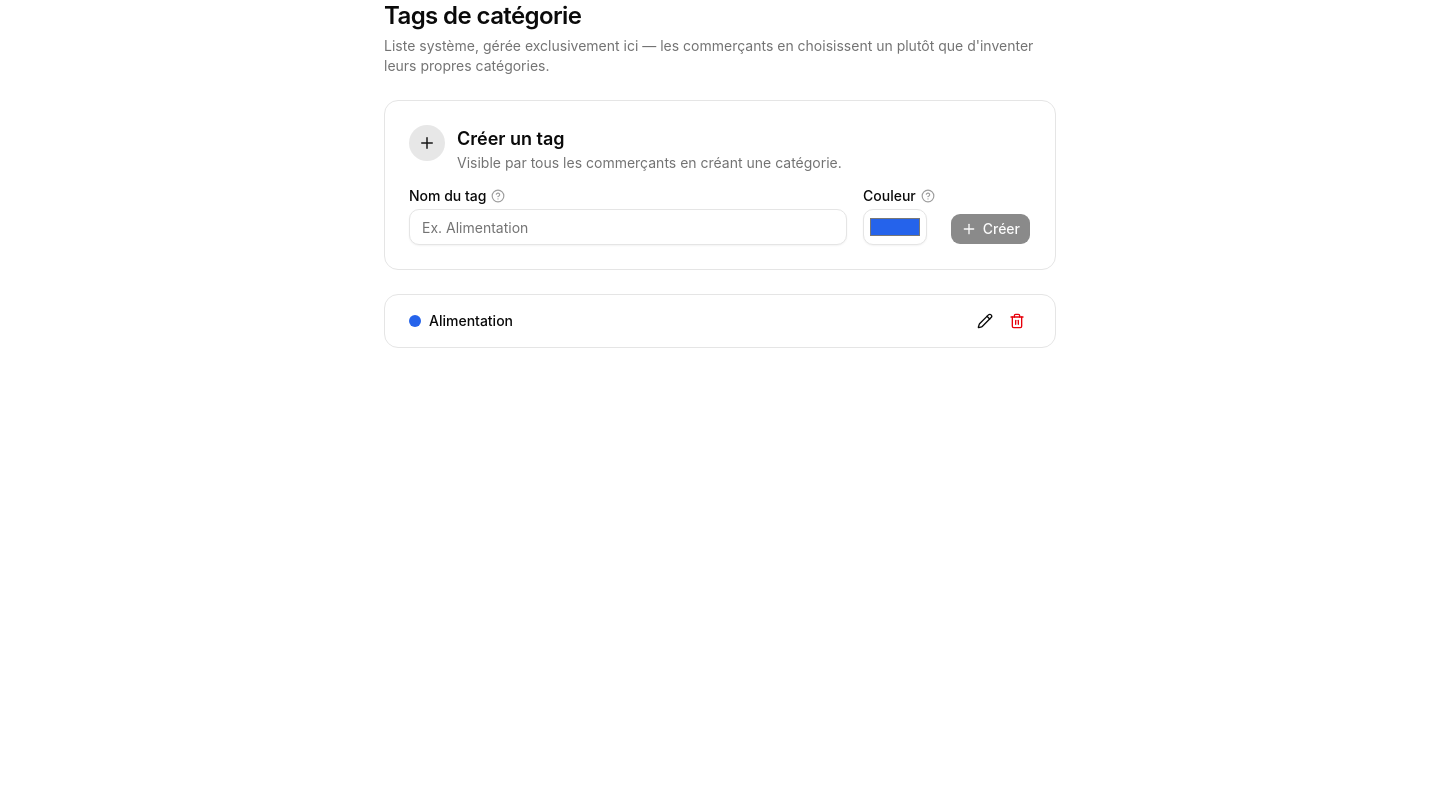
Scenario: CategoryTagsPageContent › modifier un tag (double-clic ou icône) › opens the edit dialog via the edit icon, pre-filled, and saves changes
Click the button named "Modifier Alimentation".
click(985, 321)  # box [971, 307, 999, 335]
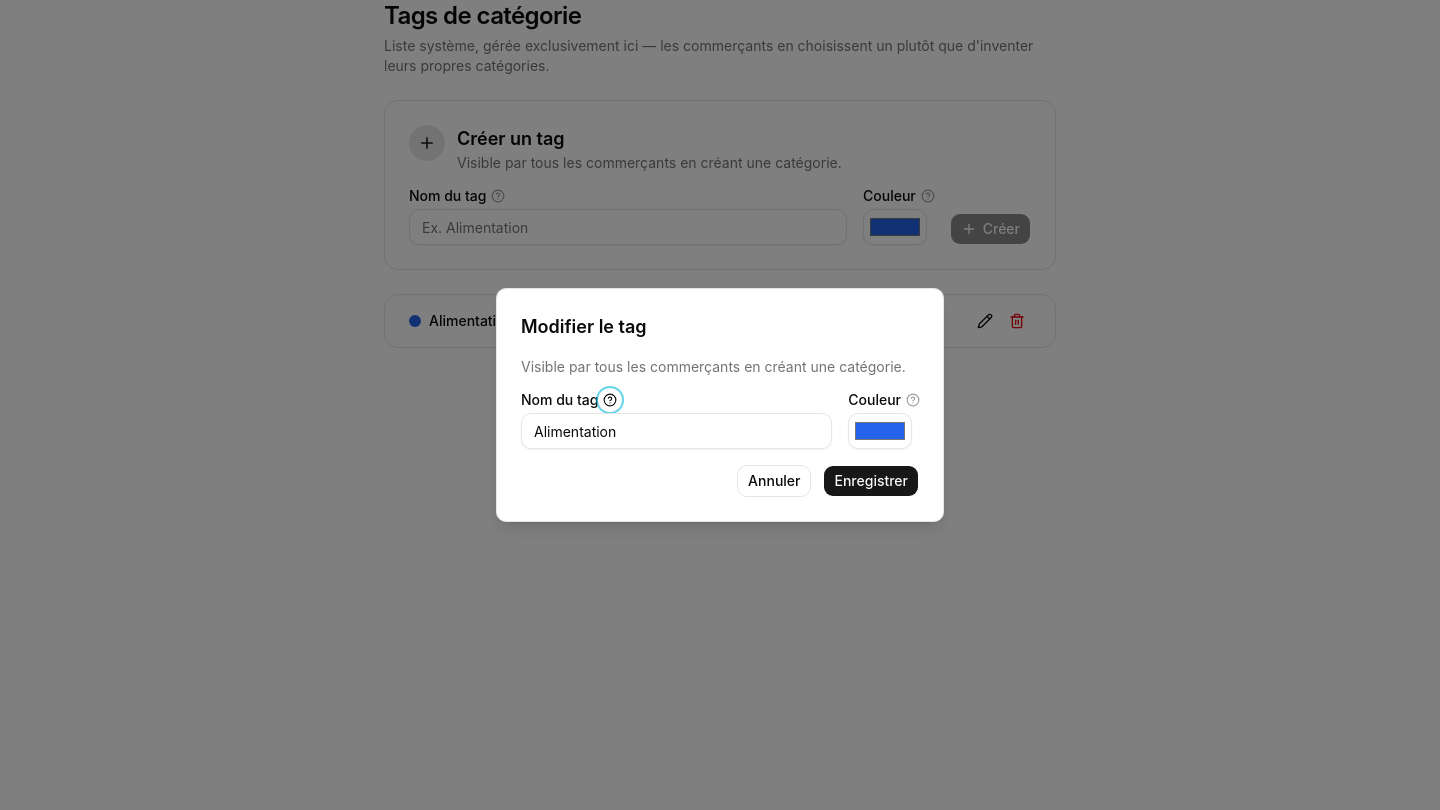
expect the field labelled "Nom du tag" holds "Alimentation": met
Replace the text in the field labelled "Nom du tag" with "Alimentation & Boissons" at (677, 431), box [521, 413, 832, 449]
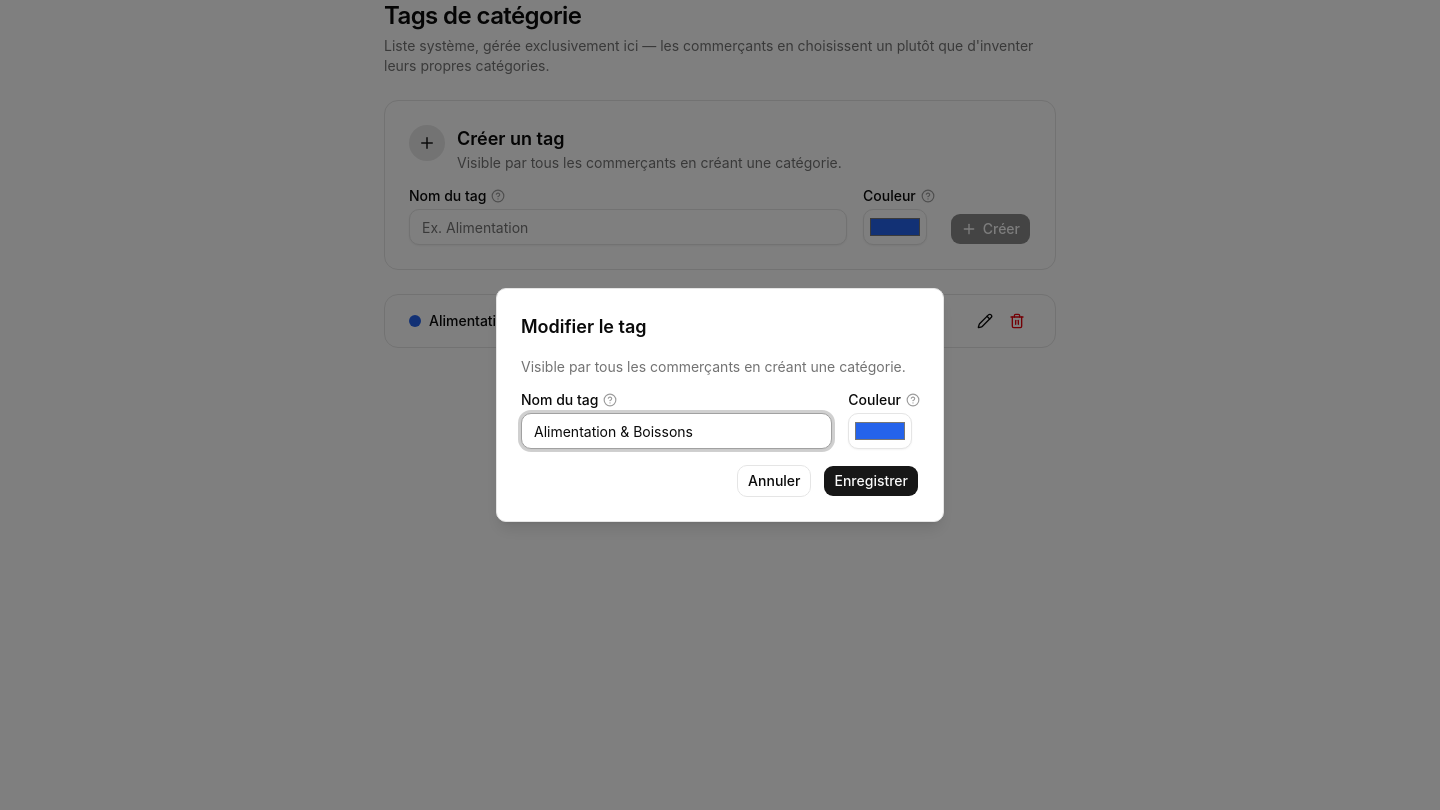
Click the button "Enregistrer".
click(871, 481)  # box [824, 465, 919, 497]
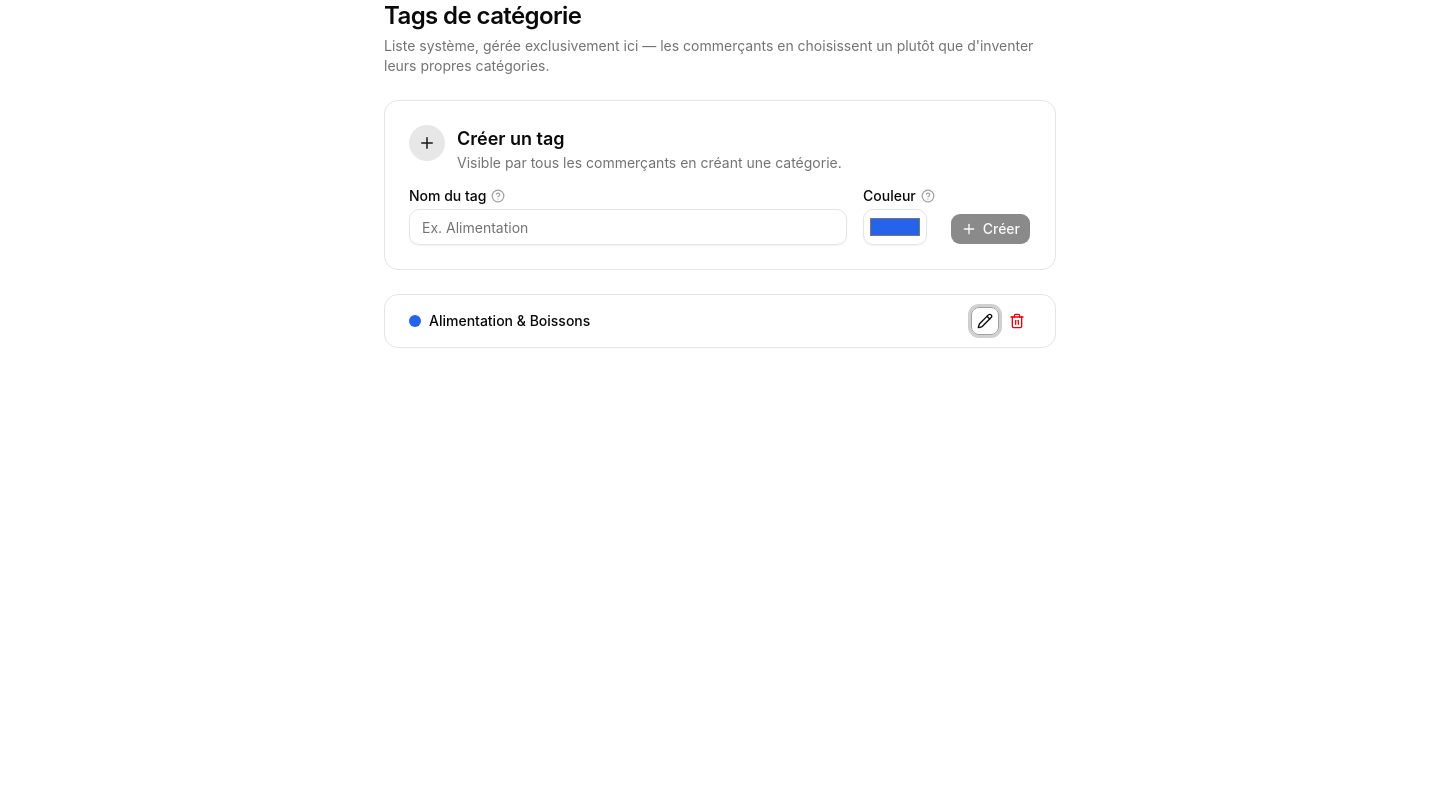
expect the text "Alimentation & Boissons" is shown: met, box [409, 311, 590, 331]
